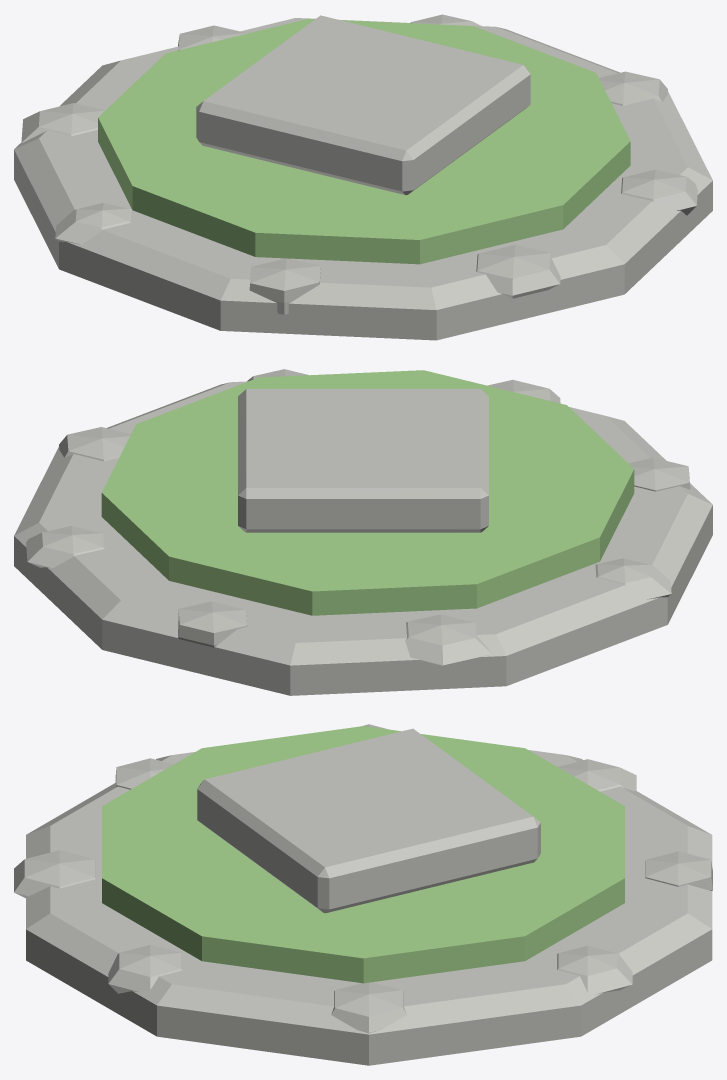
The model's file is town_stone_circle_slab.glb.
3 renders of one model, top to bottom at view 1: azimuth 30°, elevation 25°; view 2: azimuth 150°, elevation 25°; view 3: azimuth 270°, elevation 25°, orthographic. The views are drawn at different scales.
Visible parts, largest first — view 1: world; view 2: world; view 3: world.
Part boxes in pixels (<box>): world: <box>14,14,712,340</box>; world: <box>14,369,712,695</box>; world: <box>14,724,712,1065</box>.
Size of the model in its own units: 2 by 0.3501 by 1.92.
